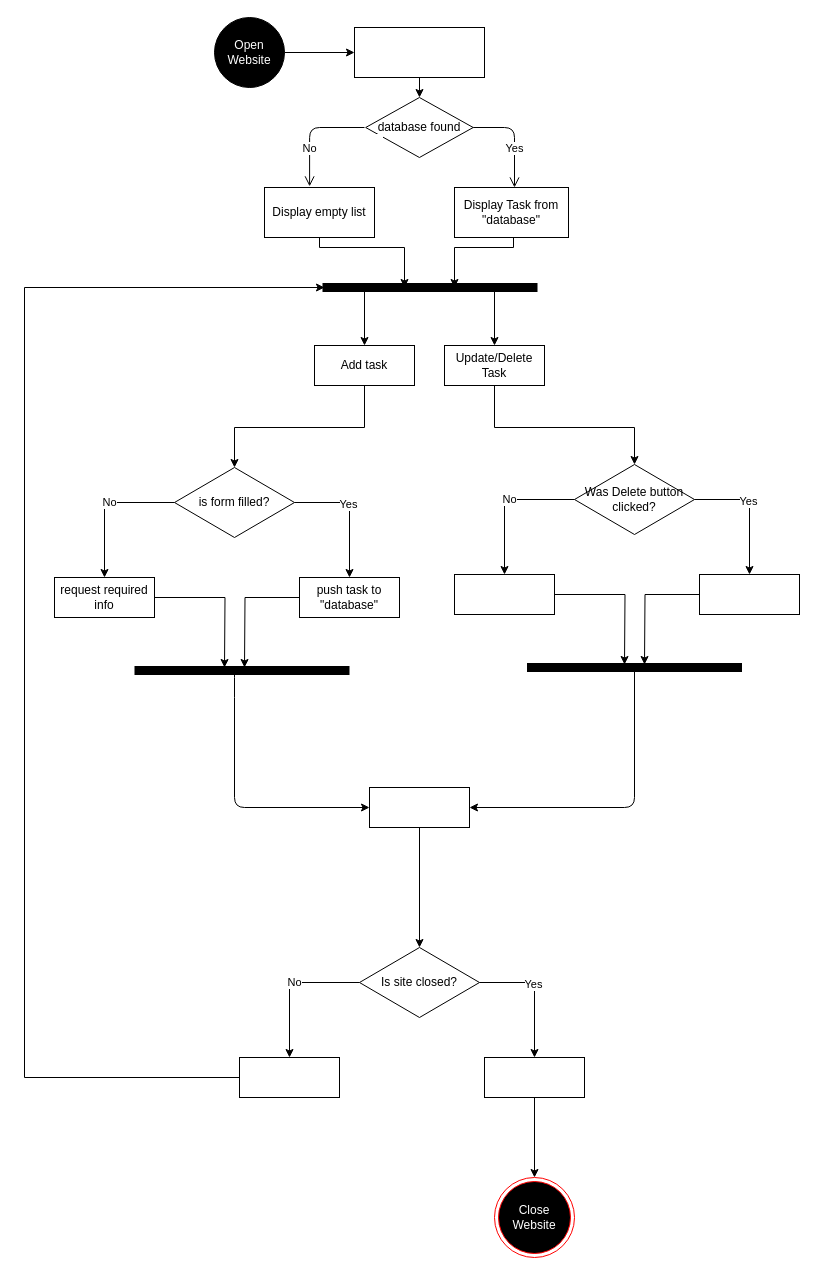
This 817x1275 diagram has some shape labels left out. Here are the shapes that lost their labels. From the top down, the centre of each, then its label:
(x=419, y=52): Find "database" in local storage
(x=504, y=594): Update task with checkmark
(x=749, y=594): Delete task and update database
(x=419, y=807): Read Tasks
(x=289, y=1077): LOOP
(x=534, y=1077): Close webpage
